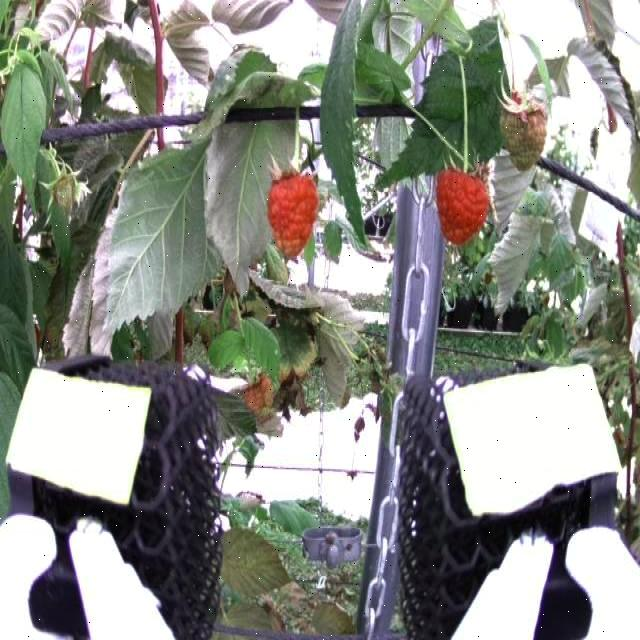Riped berries: (260, 158, 328, 261), (432, 160, 495, 244)
